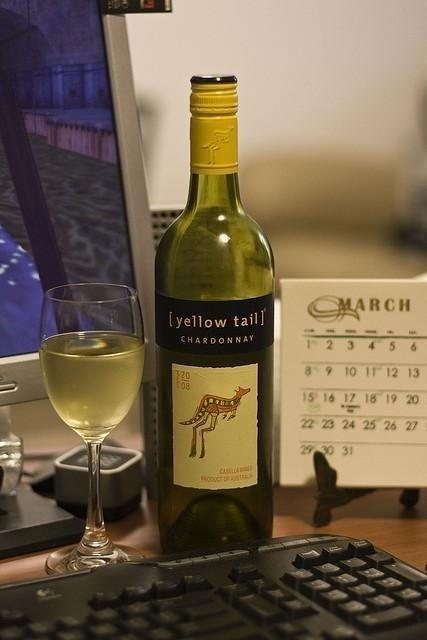bottle-glass: (151, 74, 277, 556)
glass-wine: (40, 283, 145, 573)
